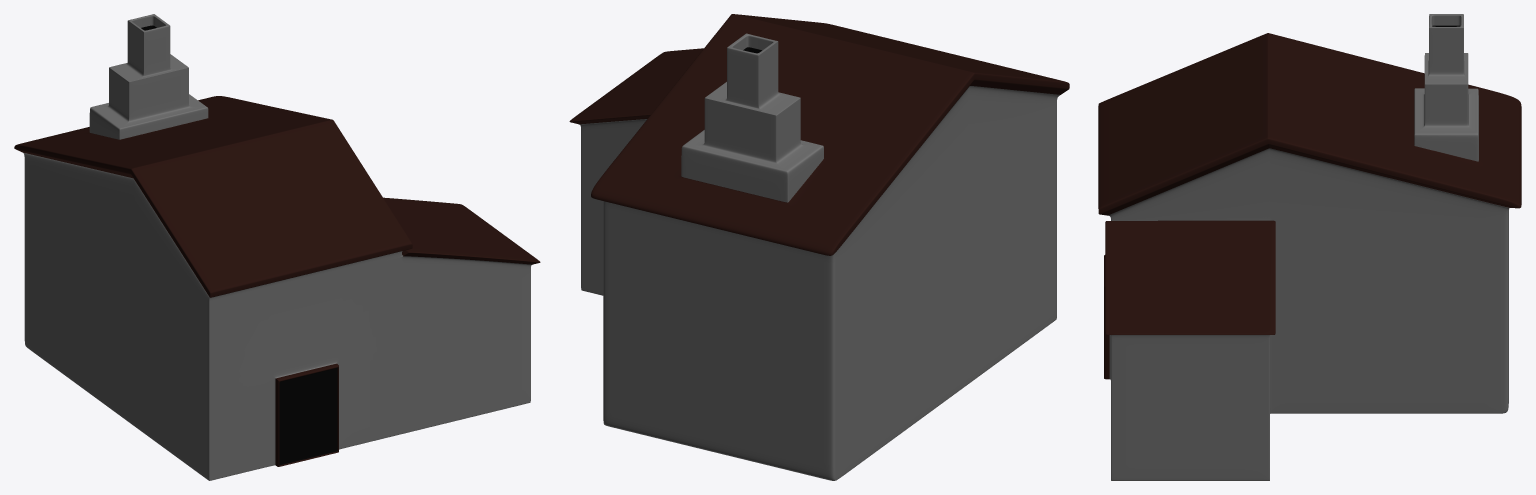
File: PLACEHOLDER_HarvesterHouse.fbx
The picture shows the model from 3 angles, left to right: view 1: azimuth 30°, elevation 25°; view 2: azimuth 150°, elevation 25°; view 3: azimuth 270°, elevation 25°; orthographic projection. The views are drawn at different scales.
Parts seen in each view (by area): view 1: HarvesterHouse; view 2: HarvesterHouse; view 3: HarvesterHouse.
Boxes of the visible parts, x1,y1,x2,y2 form: HarvesterHouse: (14,14,540,480); HarvesterHouse: (569,14,1069,480); HarvesterHouse: (1098,14,1521,480).
Size of the model in its own units: 2597 by 2375 by 2657.
